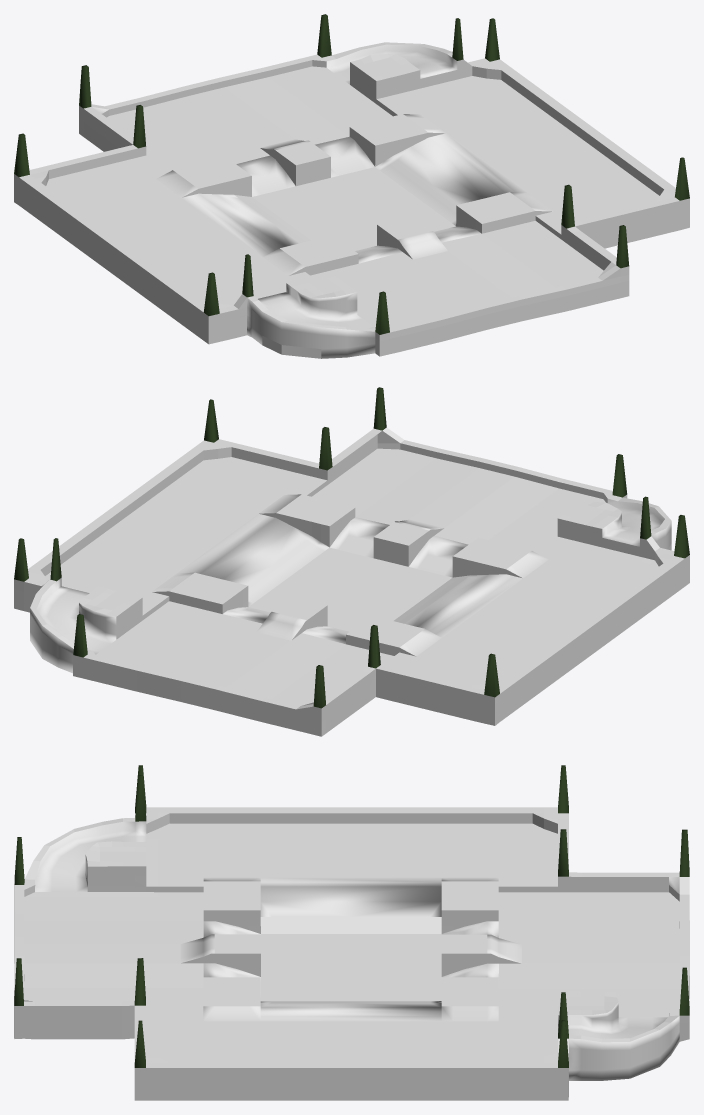
File: Map Version v0.7.6.fbx
3 renders of one model, top to bottom at view 1: azimuth 30°, elevation 25°; view 2: azimuth 150°, elevation 25°; view 3: azimuth 270°, elevation 25°, orthographic. The views are drawn at different scales.
Visible parts, largest first — view 1: Map; view 2: Map; view 3: Map.
Boxes of the visible parts, x1,y1,x2,y2 form: Map: (14,14,689,358); Map: (14,387,689,736); Map: (14,765,689,1100).
Size of the model in its own units: 5444 by 876 by 5949.
